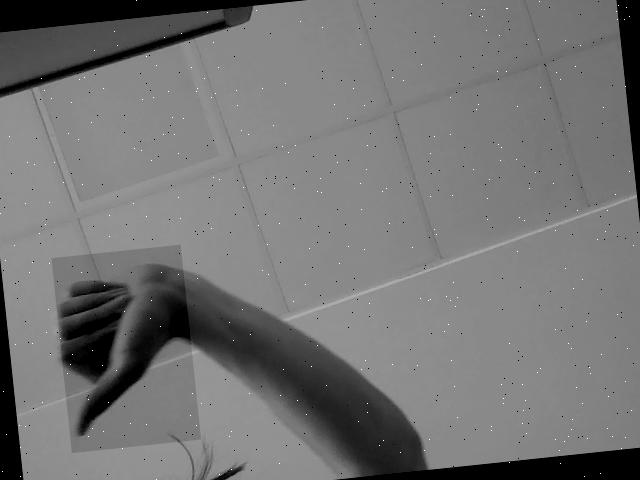bad: (52, 245, 202, 453)
